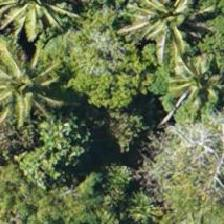coconut_tree: (154, 41, 223, 131), (0, 40, 58, 130), (117, 0, 207, 57)
